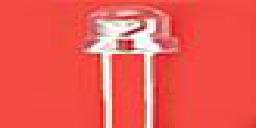LED: (82, 2, 180, 128)
